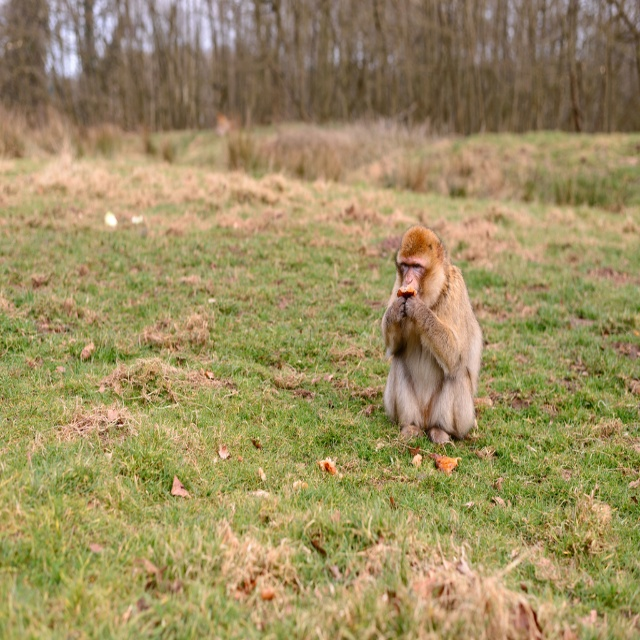Monkey: (381, 218, 482, 439)
